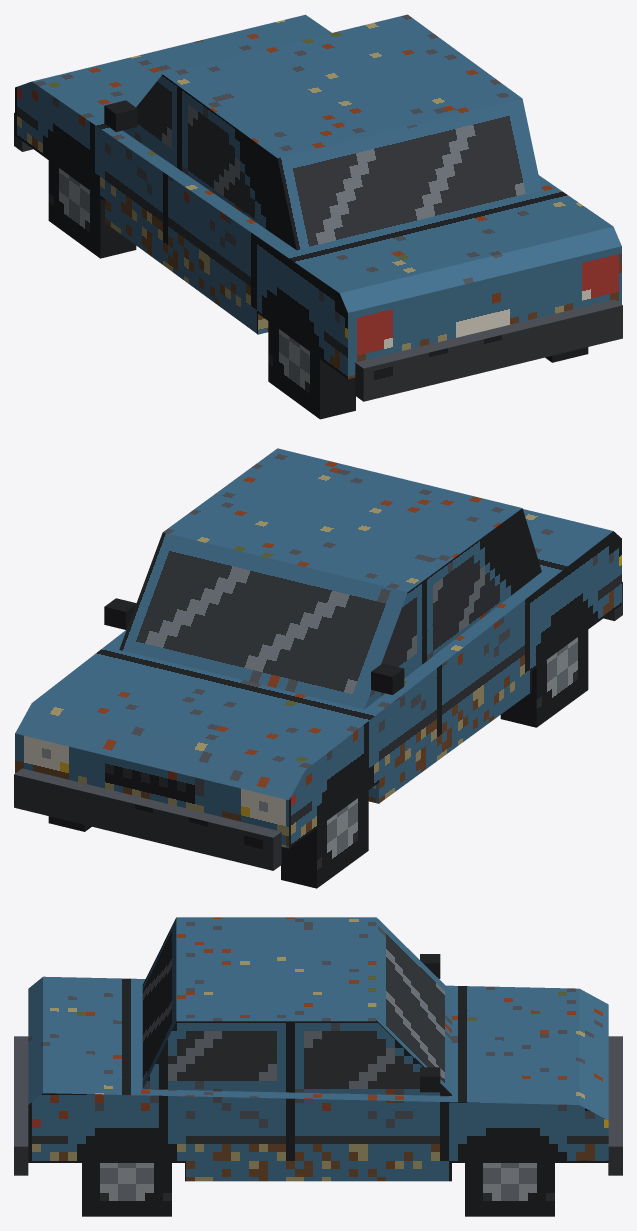
The model's file is car_blue.glb.
3 views of the same model, one above another, from view 1: azimuth 30°, elevation 25°; view 2: azimuth 150°, elevation 25°; view 3: azimuth 270°, elevation 25° (orthographic). The views are drawn at different scales.
Visible parts, largest first — view 1: car_blue; view 2: car_blue; view 3: car_blue.
Part boxes in pixels (box(x1,y1,x2,y2)): car_blue: box(14, 14, 622, 419); car_blue: box(14, 448, 622, 888); car_blue: box(14, 917, 622, 1216).
Bounding box in the file's own units: 2 × 1.45 × 4.2.
Materials: 1 (1 with a texture image).
